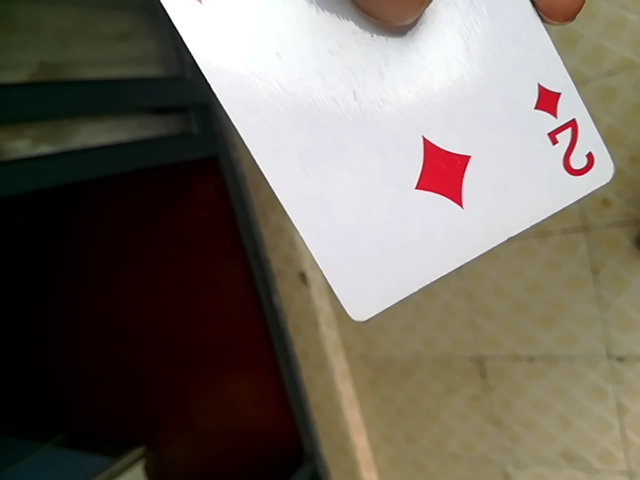fk 2: (68, 1, 614, 339)
